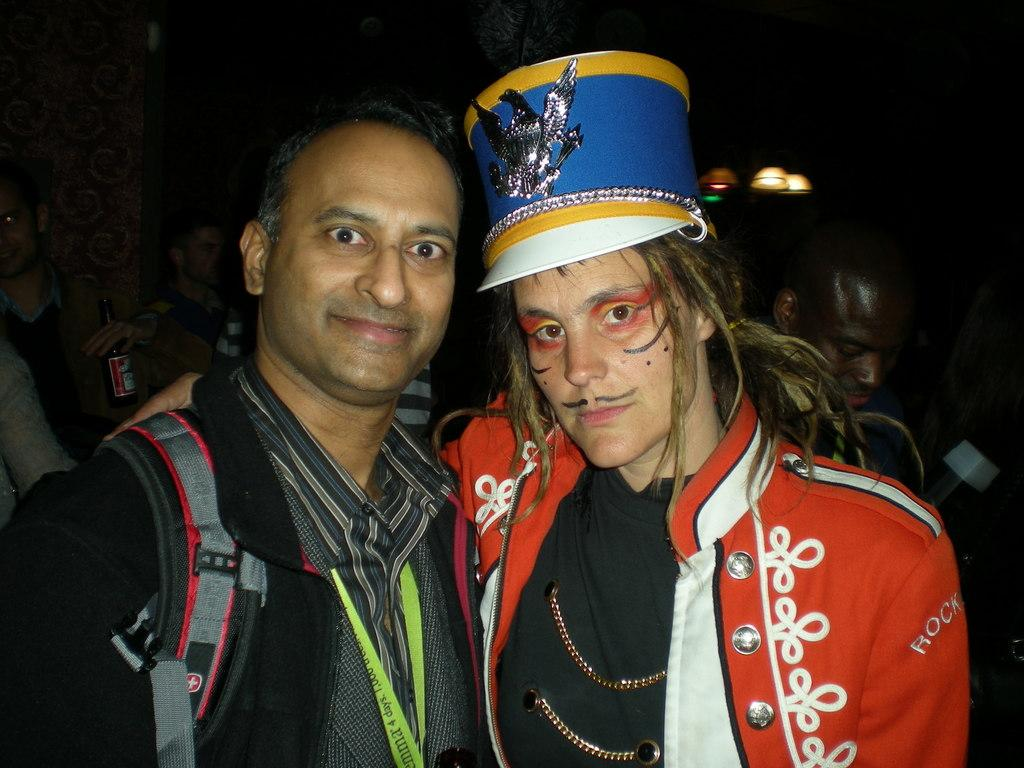Hat: (450, 48, 722, 290)
